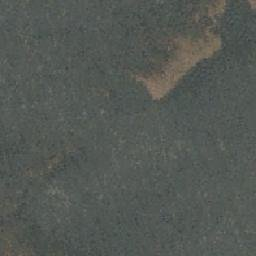debris: (139, 52, 171, 101), (200, 4, 223, 61), (175, 36, 195, 80)
